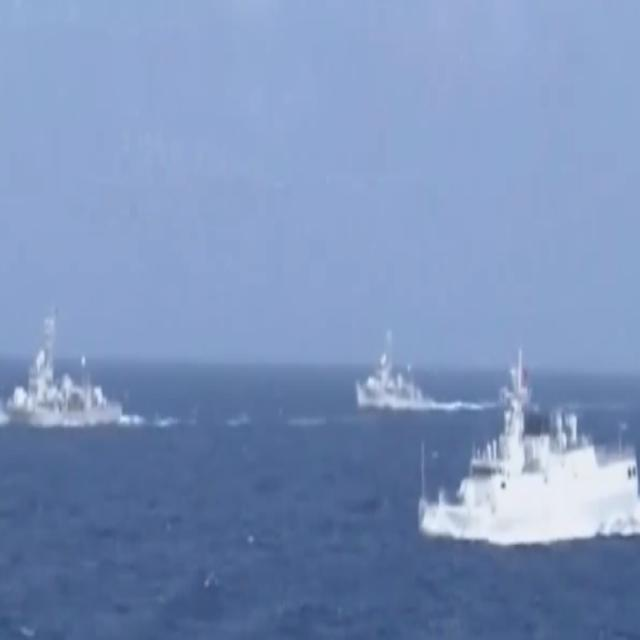navalvessels: (411, 356, 640, 564), (0, 292, 128, 434), (354, 324, 440, 408)
